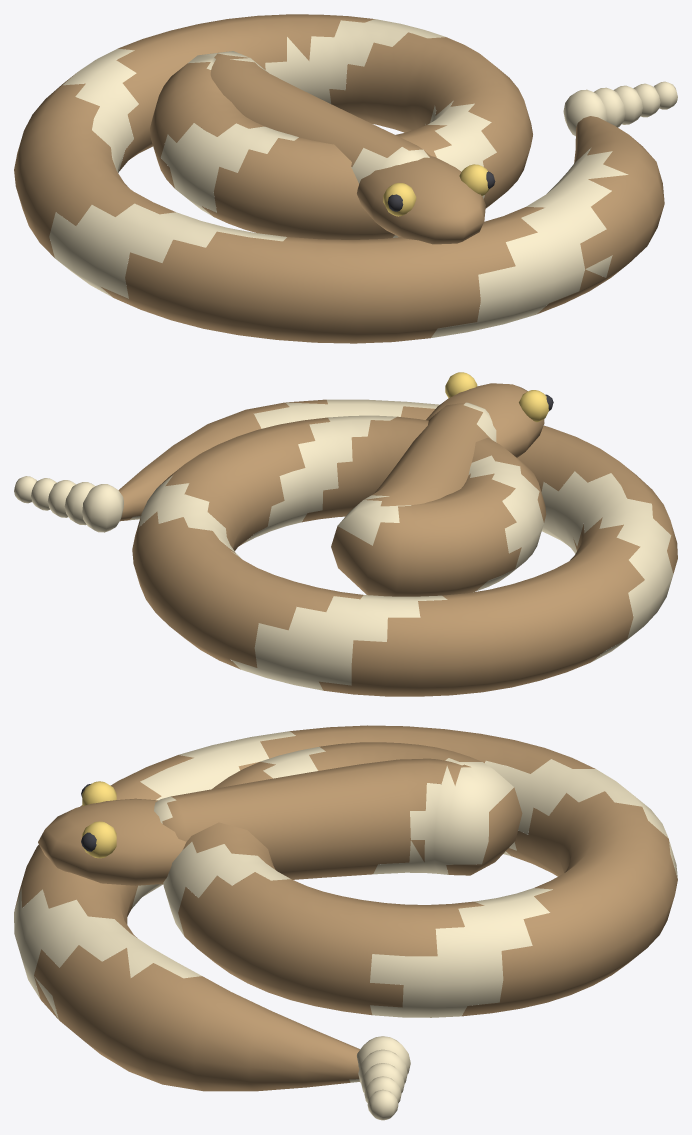
Rendered from reptiles-amphibians-and-minibeasts-rattlesnake-coiled--12103b7f__22438.glb.
The picture shows the model from 3 angles, top to bottom: view 1: azimuth 30°, elevation 25°; view 2: azimuth 150°, elevation 25°; view 3: azimuth 270°, elevation 25°; orthographic projection. The views are drawn at different scales.
Visible parts, largest first — view 1: rattlesnake-coiled-rattling; view 2: rattlesnake-coiled-rattling; view 3: rattlesnake-coiled-rattling.
Boxes of the visible parts, left/top/right/bottom form: rattlesnake-coiled-rattling: left=14, top=14, right=677, bottom=343; rattlesnake-coiled-rattling: left=14, top=372, right=677, bottom=696; rattlesnake-coiled-rattling: left=14, top=725, right=677, bottom=1120.
Bounding box in the file's own units: 0.5407 × 0.1344 × 0.45.
